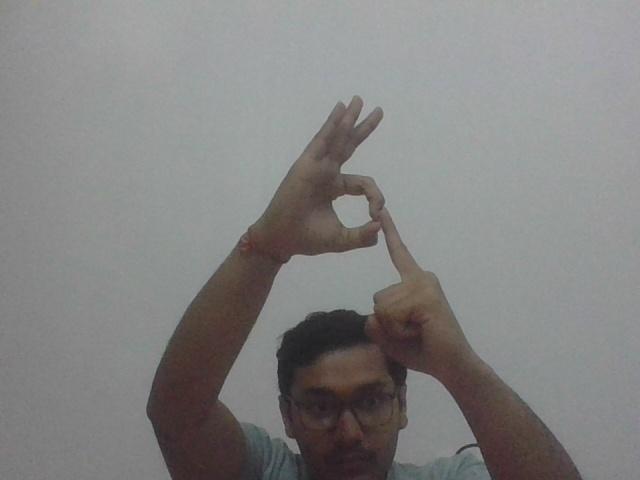P: (296, 93, 440, 301)
